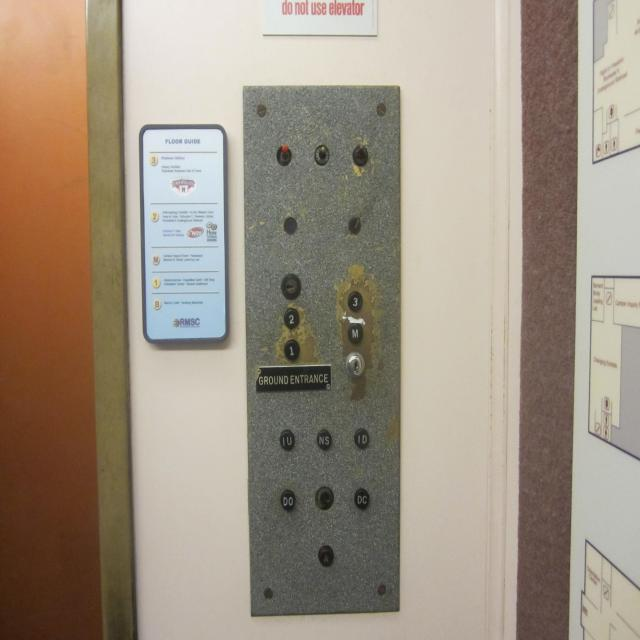1: (282, 337, 302, 362)
2: (282, 306, 301, 330)
3: (346, 289, 364, 313)
A: (317, 543, 335, 569)
DC: (352, 486, 370, 512)
DO: (278, 487, 296, 513)
ID: (352, 425, 370, 452)
IU: (278, 427, 296, 453)
M: (346, 320, 364, 345)
NS: (314, 426, 333, 452)
keyhole: (279, 272, 302, 300), (344, 350, 366, 379)
switch: (311, 142, 331, 168), (274, 143, 293, 169), (351, 142, 370, 168)
unknown: (312, 484, 336, 514)
